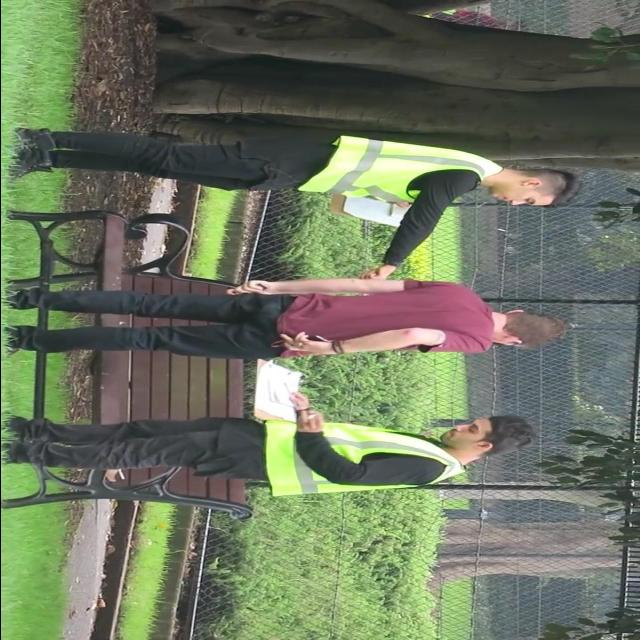jacket: (249, 415, 467, 499), (296, 130, 514, 214)
